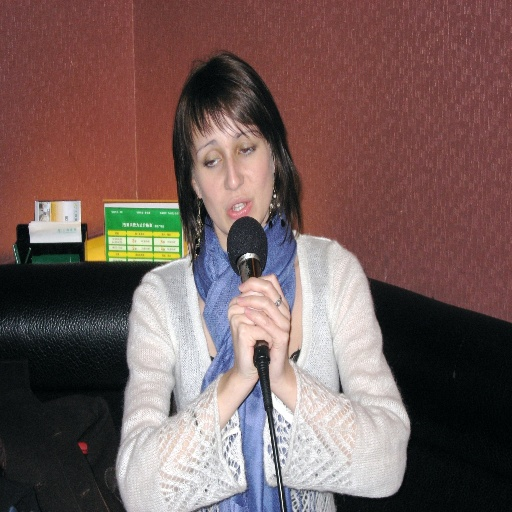hand: (225, 288, 274, 385)
